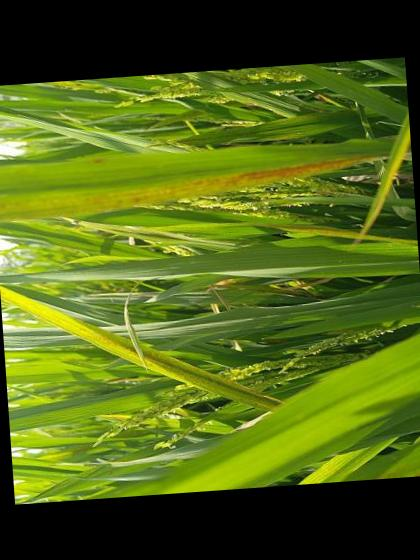Leaf Streak: (0, 282, 285, 409), (7, 154, 387, 213), (359, 106, 411, 236), (267, 223, 418, 245), (372, 460, 420, 479)
